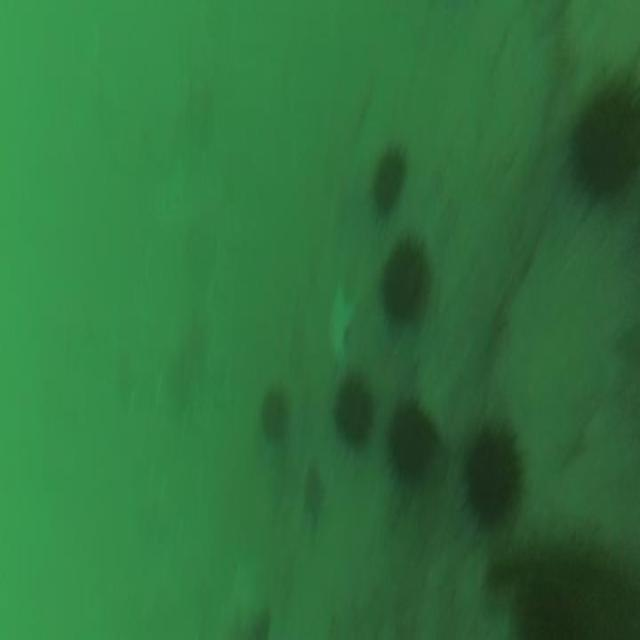echinus: (557, 64, 640, 228), (457, 408, 531, 536), (380, 386, 444, 500), (372, 228, 437, 335), (329, 365, 379, 457), (369, 141, 411, 221), (258, 378, 292, 444)
starfish: (320, 278, 358, 368), (300, 454, 327, 534)
